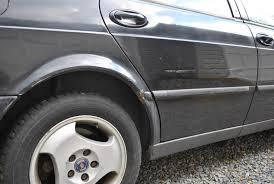quaterpanel-dent: (54, 43, 159, 126)
